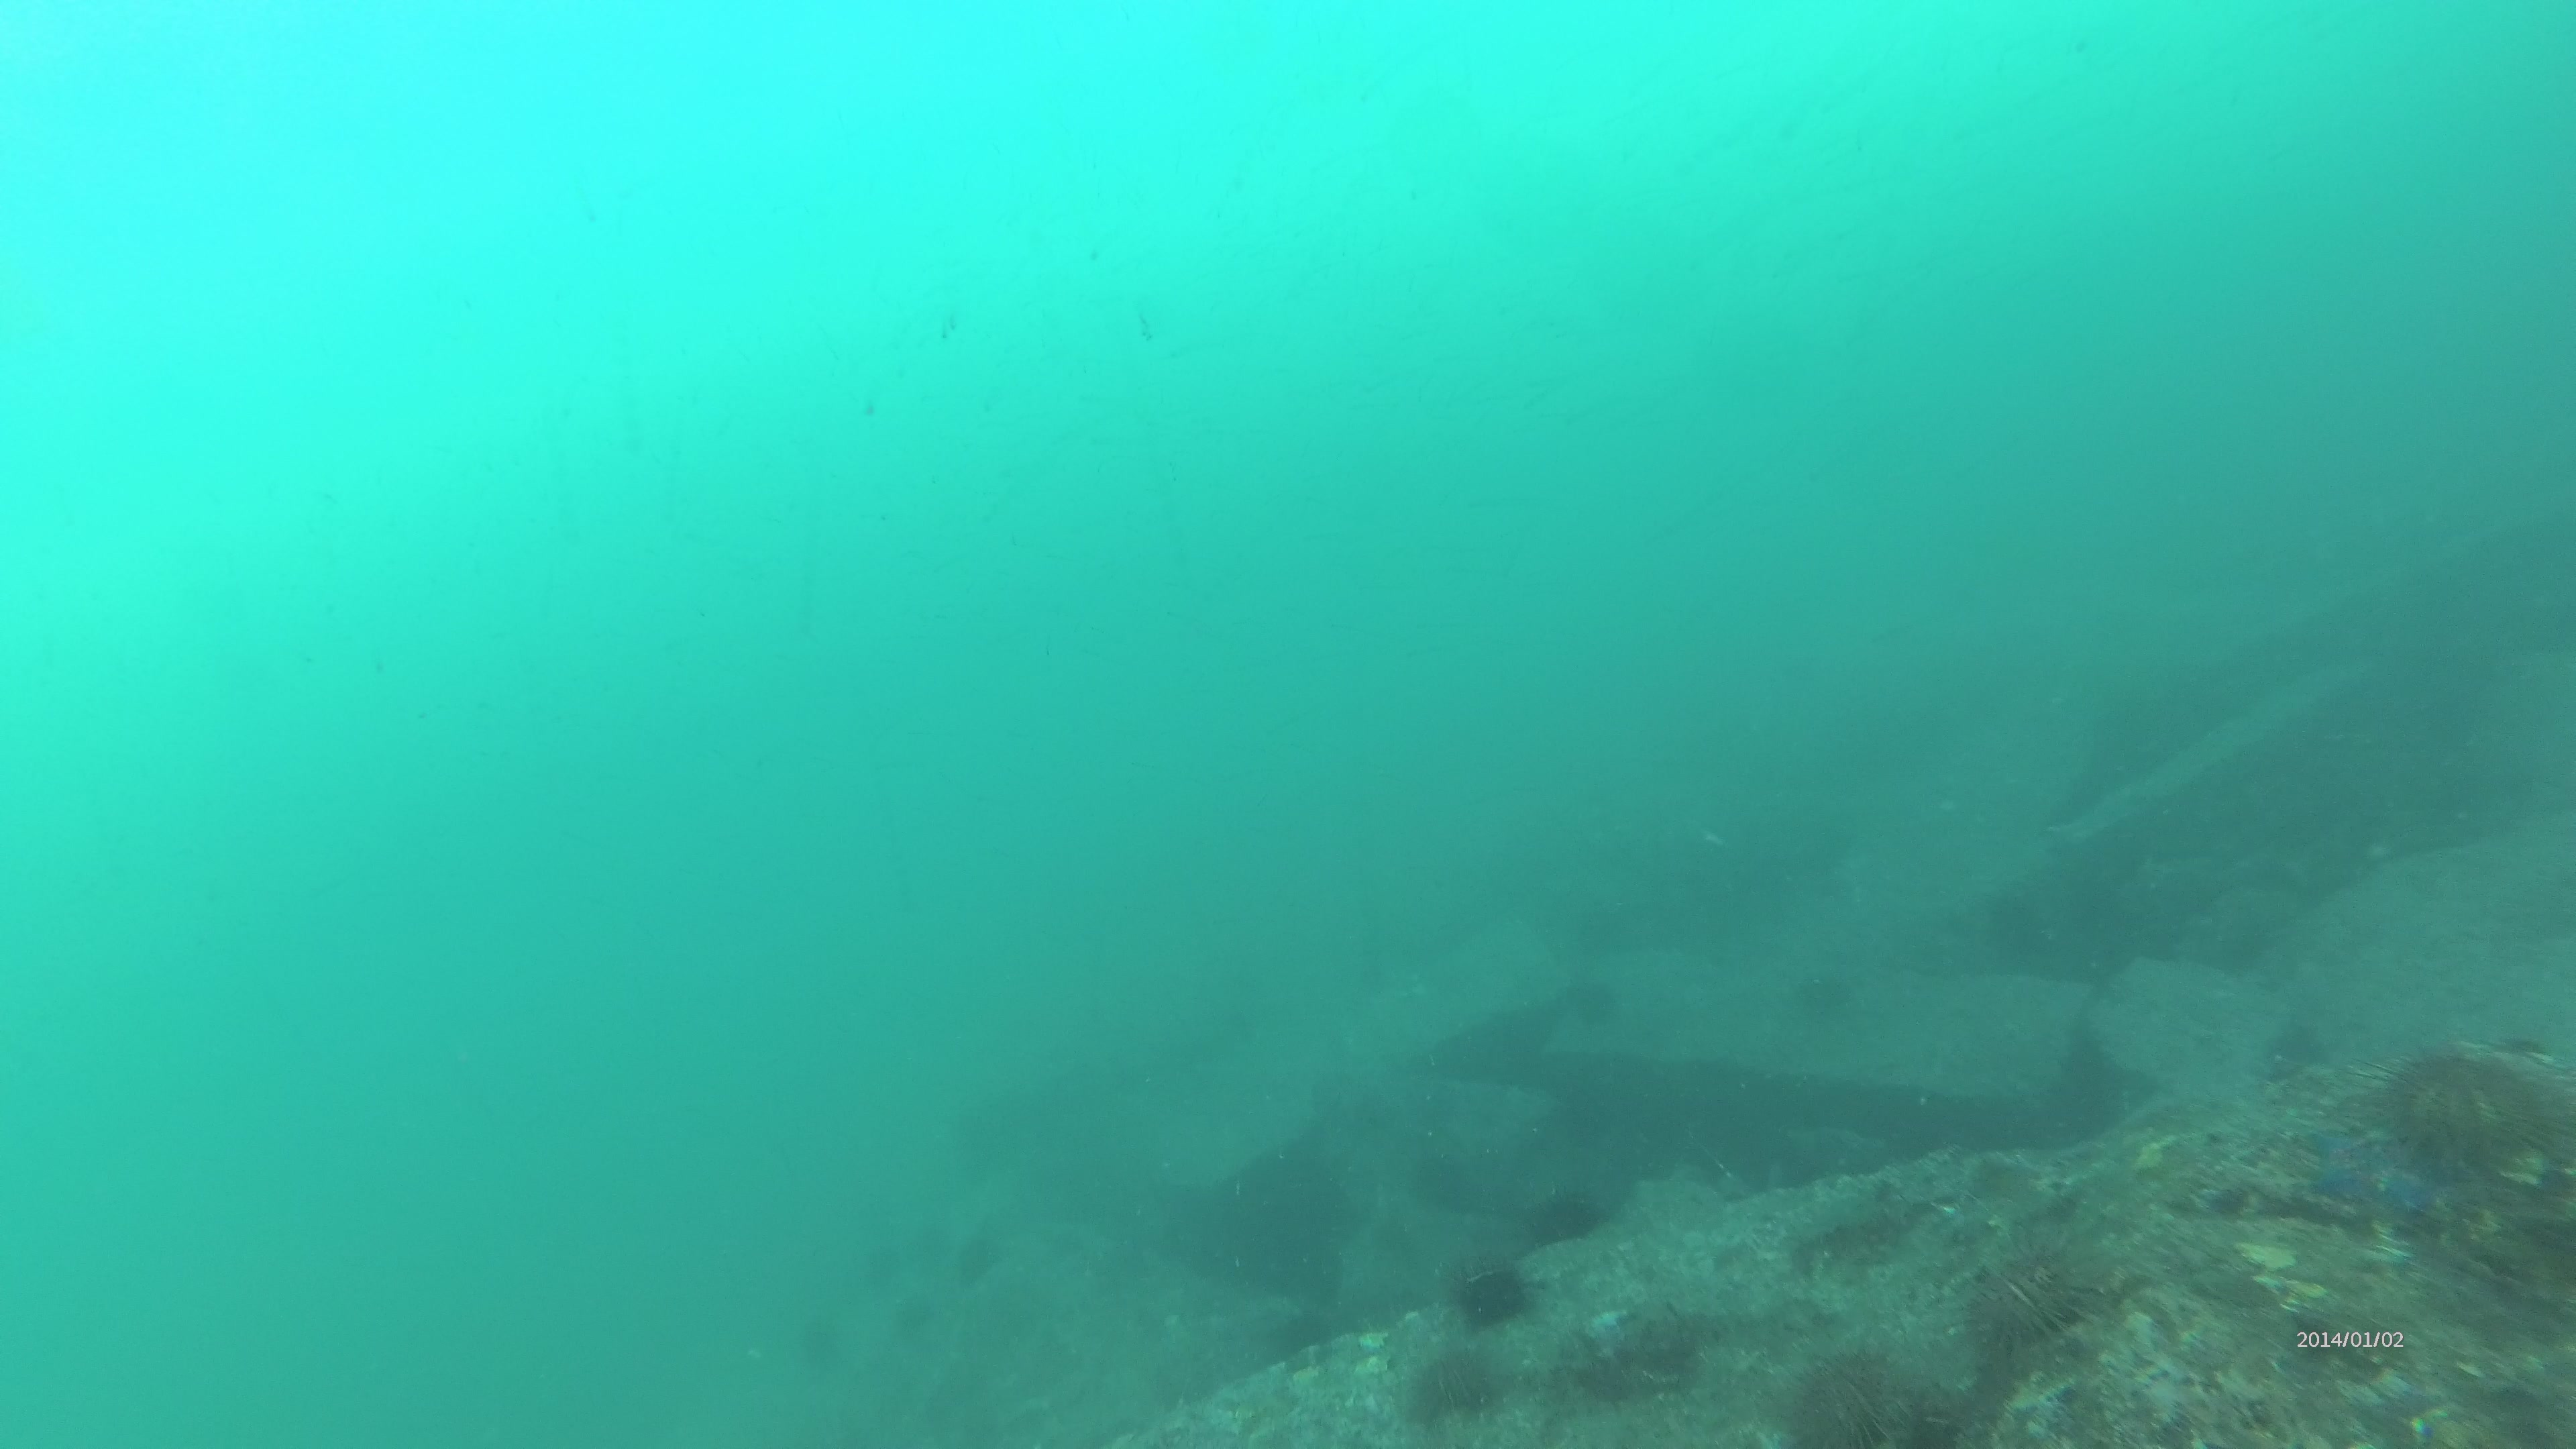echinus: (1973, 1238, 2102, 1339), (1789, 1350, 1911, 1445), (1461, 1269, 1523, 1327)
starfish: (2305, 1116, 2447, 1223)
